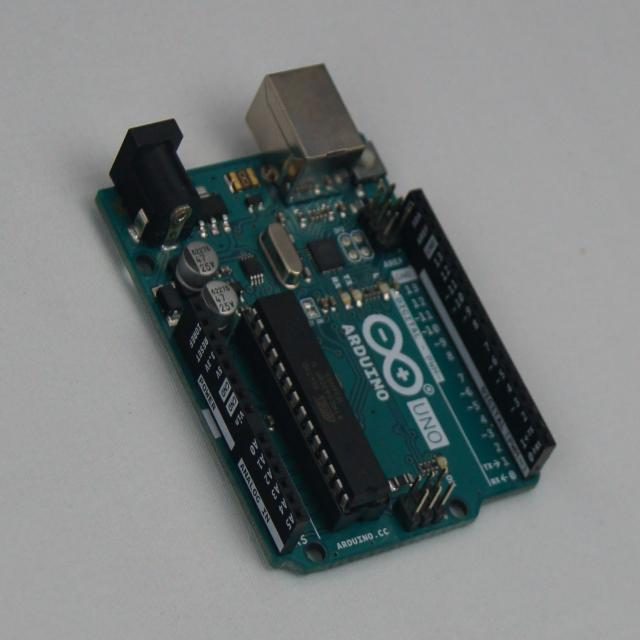Arduino Uno -Green-: (98, 66, 555, 571)
